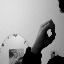o: (35, 18, 57, 45)
